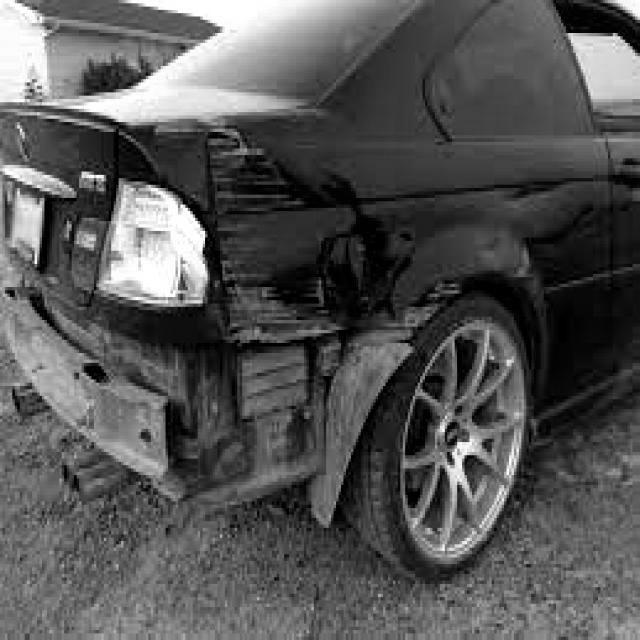Taillight-Damage: (95, 176, 219, 308)
boot-dent: (1, 119, 132, 290)
quaterpanel-dent: (215, 119, 457, 485)
rear-bumper-dent: (0, 291, 252, 518)
